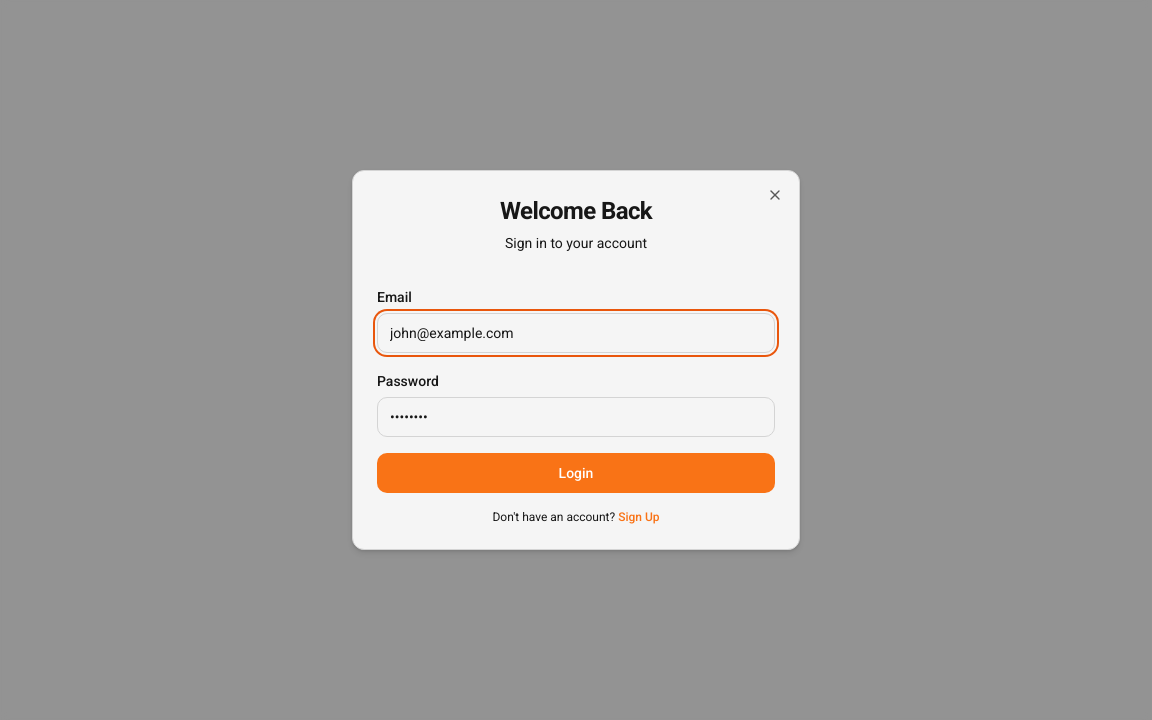
Test case: LoginDialog Component › TC-L08: should display error message on login failure
Type "user@example.com" into the field labelled "Email".
click(576, 333); type("user@example.com")  # box x1=377 y1=313 x2=775 y2=353
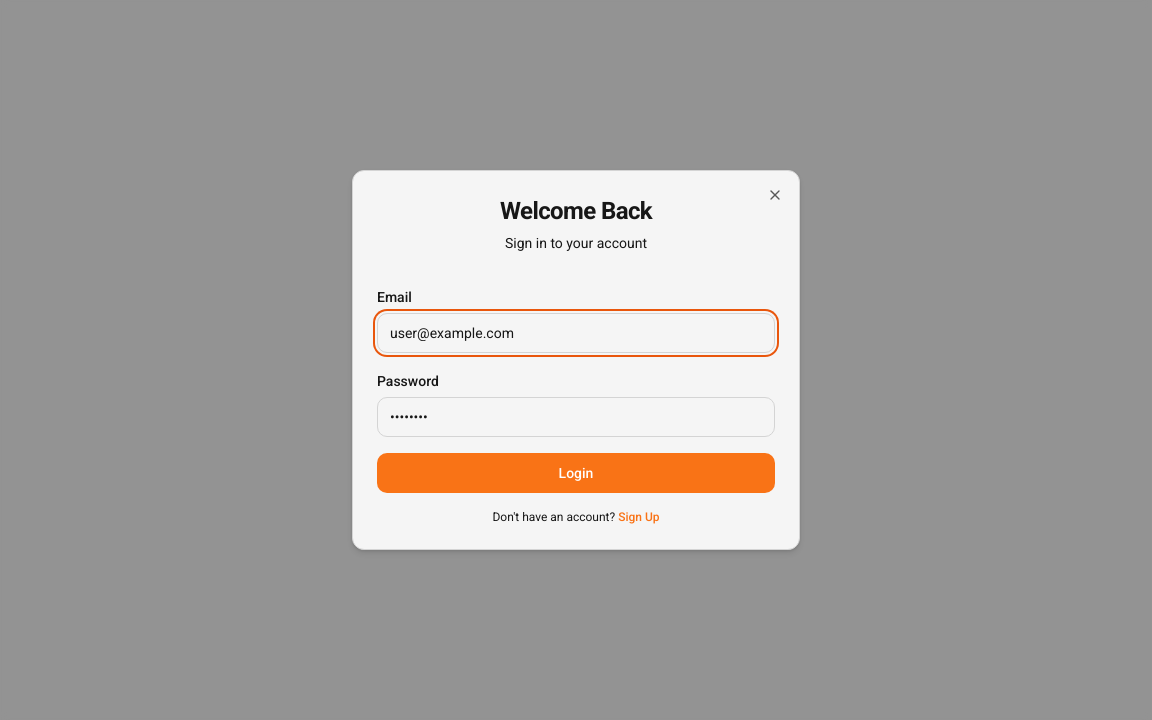
Type "wrongpassword" into the password field labelled "Password".
click(576, 417); type("wrongpassword")  # box x1=377 y1=397 x2=775 y2=437
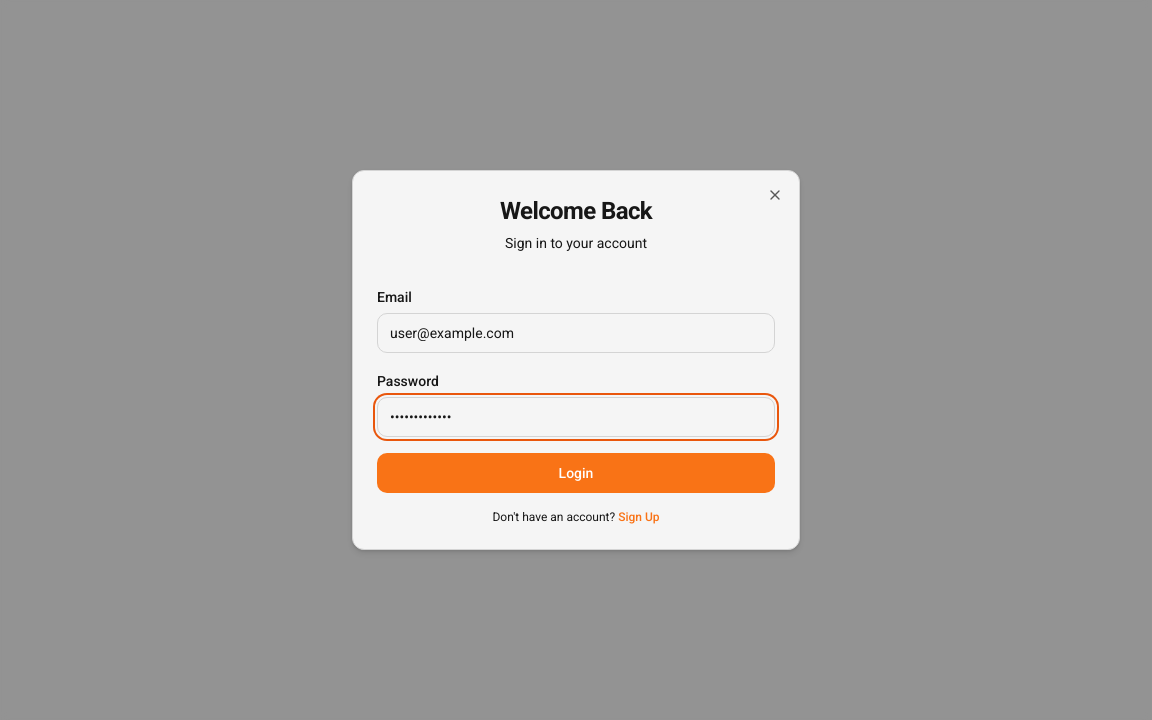
Click the button "Login".
click(576, 473)  # box x1=377 y1=453 x2=775 y2=493
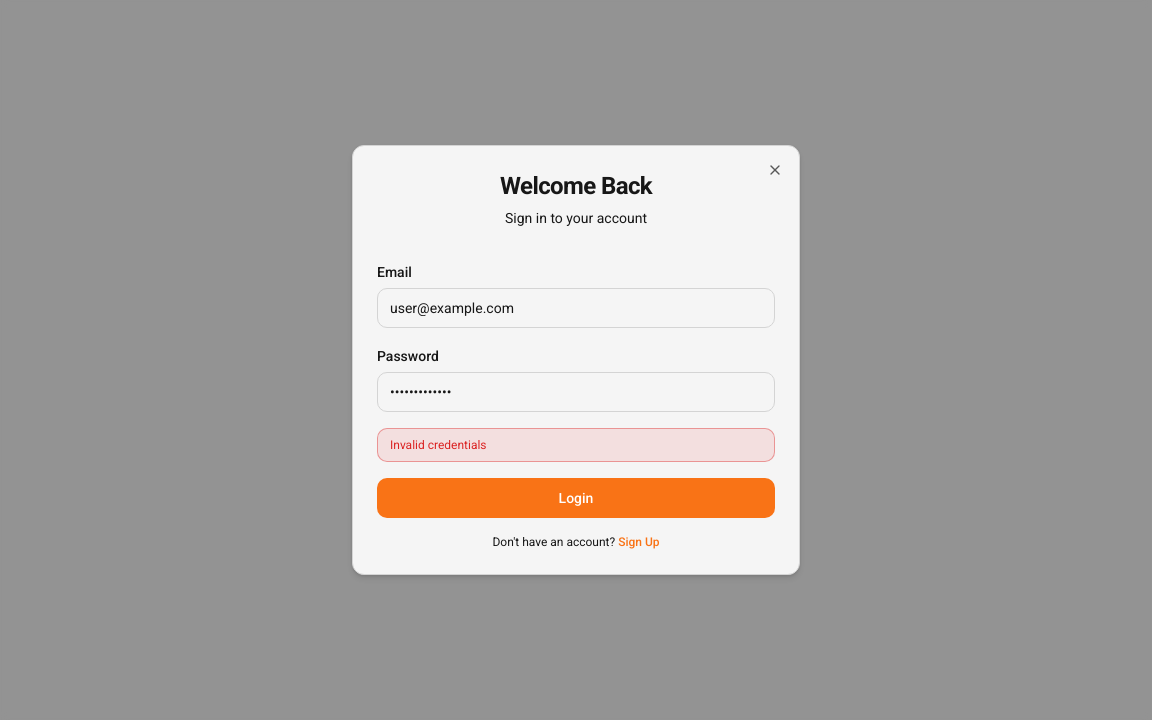
expect the text "Invalid credentials" is shown: met, box x1=377 y1=428 x2=775 y2=462
